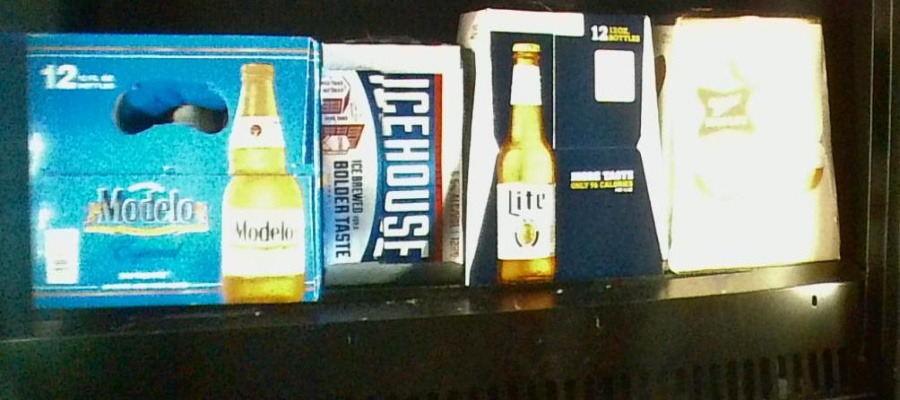bottle: (4, 33, 324, 303), (466, 10, 663, 279), (669, 14, 845, 266), (321, 44, 467, 285)
